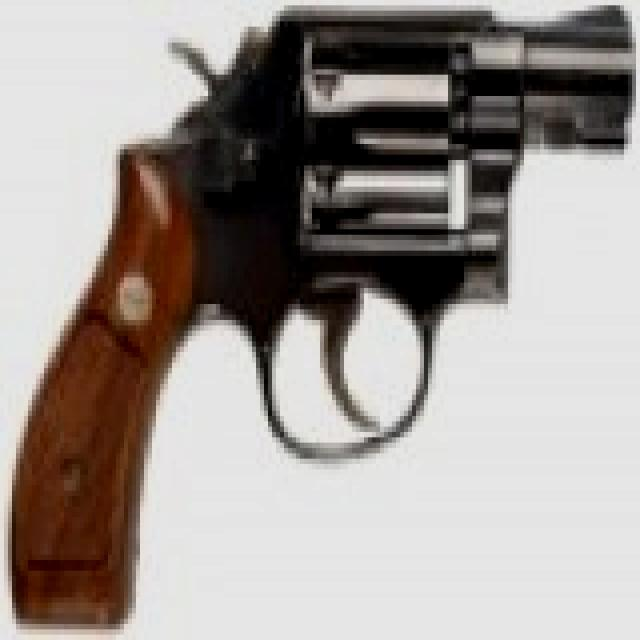pistol: (24, 0, 640, 619)
